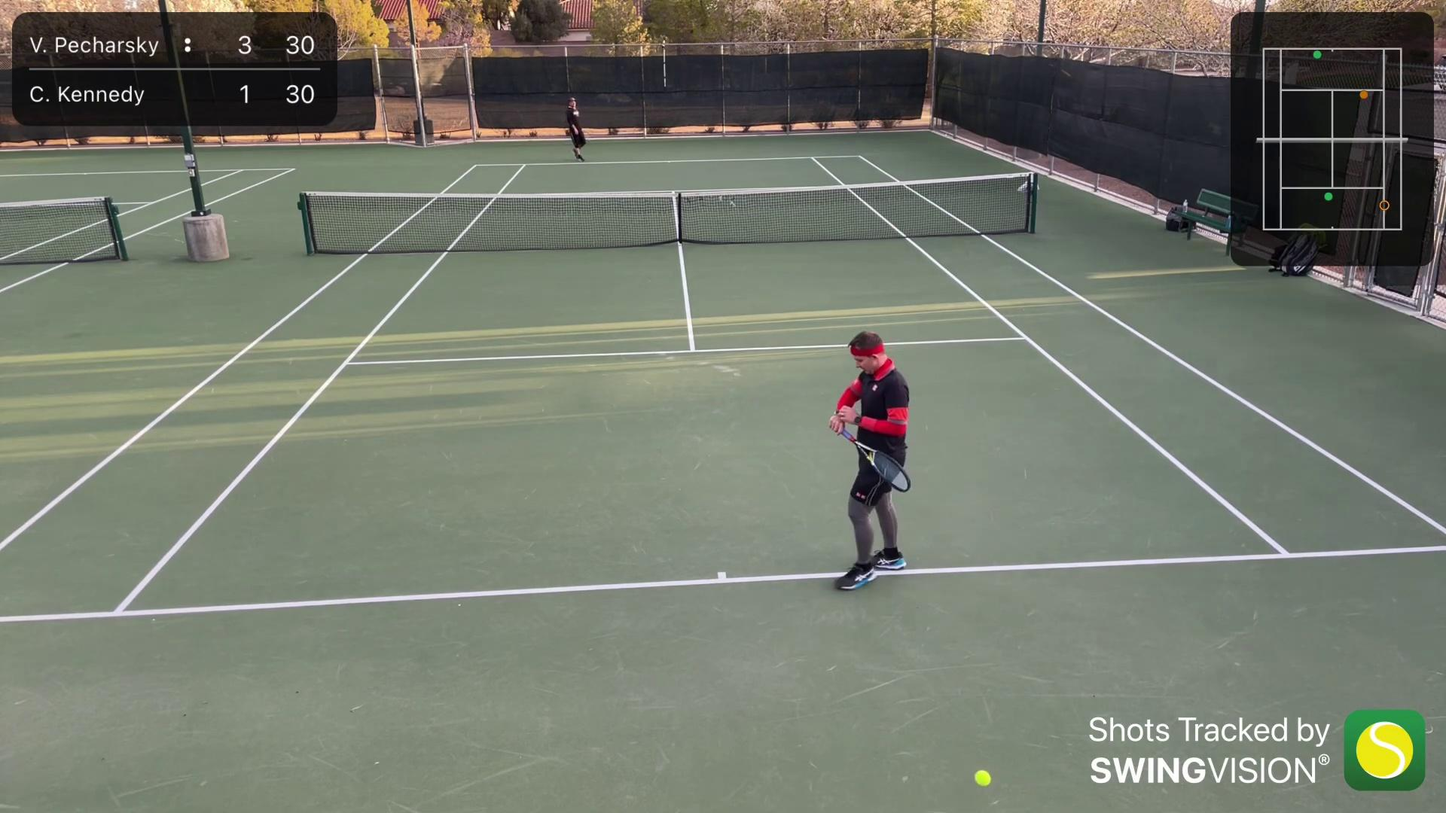ball: (971, 769, 994, 789)
